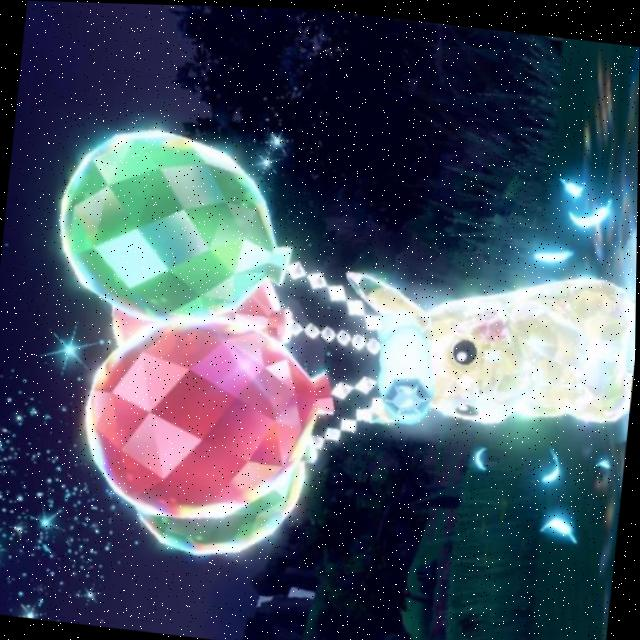Pikachu: (327, 192, 638, 542)
